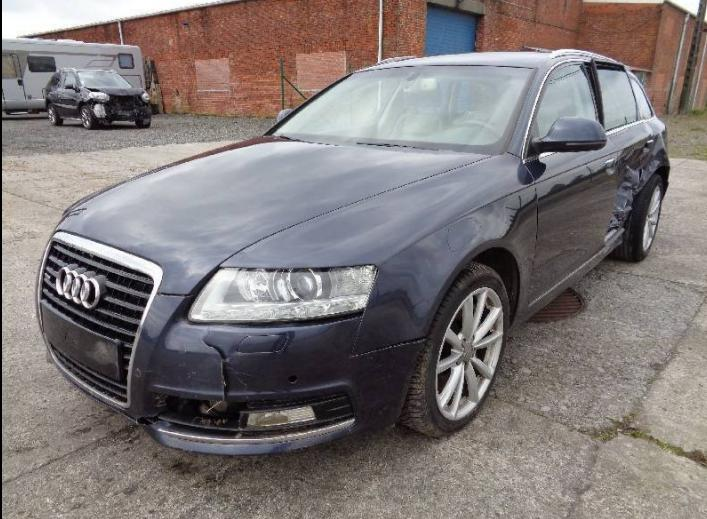Back-door: (589, 60, 653, 244)
Back-wheel: (609, 174, 662, 261)
Back-window: (598, 66, 637, 130), (629, 75, 653, 118)
Fender: (219, 153, 538, 355)
Front-bumper: (120, 294, 426, 454)
Front-door: (521, 59, 619, 305)
Front-wheel: (397, 264, 511, 437)
Front-window: (531, 66, 596, 139)
Grille: (36, 231, 163, 409)
Headlight: (187, 265, 378, 326)
Hood: (54, 137, 497, 295)
License-plate: (40, 299, 120, 381)
Mirror: (528, 116, 607, 154), (277, 108, 294, 124)
Quarter-panel: (648, 115, 671, 173)
Rocker-panel: (508, 227, 625, 335)
Roof: (357, 49, 602, 71)
Windshield: (263, 66, 537, 154)
